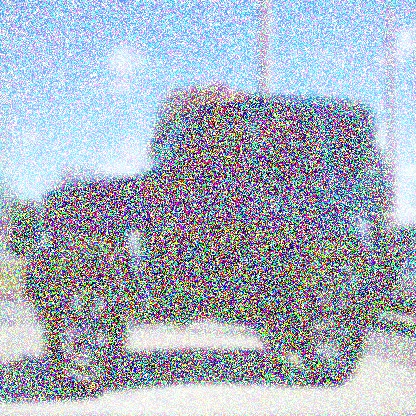Vehicle: (22, 88, 404, 399)
